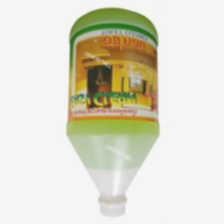cleaning_solution: (62, 6, 162, 219)
